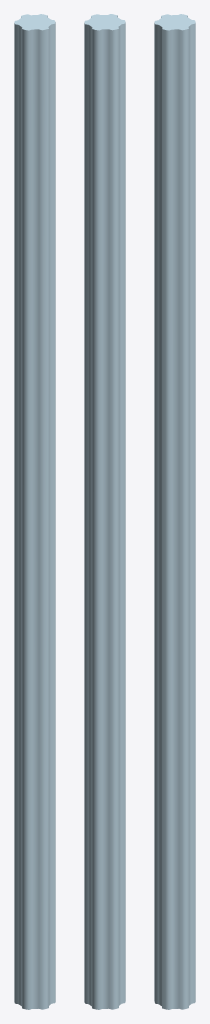
The model's file is Spline.fbx.
The picture shows the model from 3 angles, left to right: view 1: azimuth 90°, elevation 25°; view 2: azimuth 210°, elevation 25°; view 3: azimuth 270°, elevation 25°; orthographic projection.
Visible parts, largest first — view 1: Part 1; view 2: Part 1; view 3: Part 1.
Part boxes in pixels (box(x1,y1,x2,y2)): Part 1: box(14, 14, 55, 1009); Part 1: box(84, 14, 125, 1009); Part 1: box(154, 14, 195, 1009).
Bounding box in the file's own units: 3.64 × 100 × 3.81.
